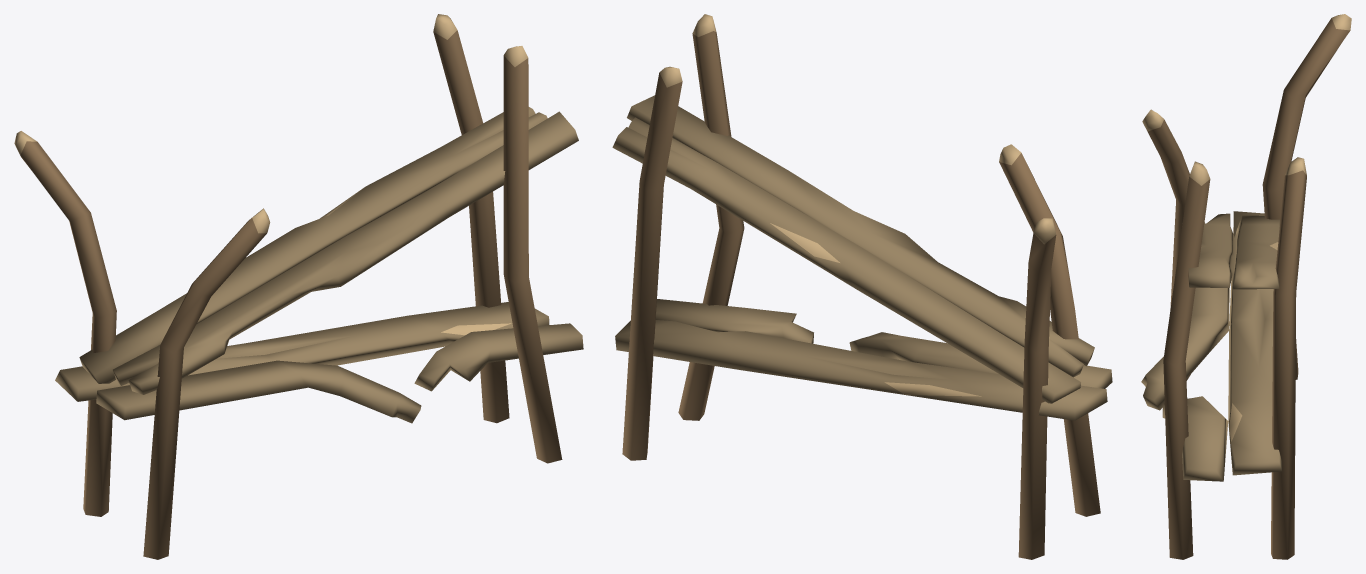
Rendered from rpgpp_av_shelf_wood_01b.gltf.
The picture shows the model from 3 angles, left to right: view 1: azimuth 30°, elevation 25°; view 2: azimuth 150°, elevation 25°; view 3: azimuth 270°, elevation 25°; orthographic projection. The views are drawn at different scales.
Visible parts, largest first — view 1: rpgpp_av_shelf_wood_01b; view 2: rpgpp_av_shelf_wood_01b; view 3: rpgpp_av_shelf_wood_01b.
Part boxes in pixels (x1,y1,x2,y2): rpgpp_av_shelf_wood_01b: (14,14,583,559); rpgpp_av_shelf_wood_01b: (612,14,1112,559); rpgpp_av_shelf_wood_01b: (1141,14,1351,559).
Bounding box in the file's own units: 0.0236 × 0.019 × 0.00952.
1 material, 1 textured.
